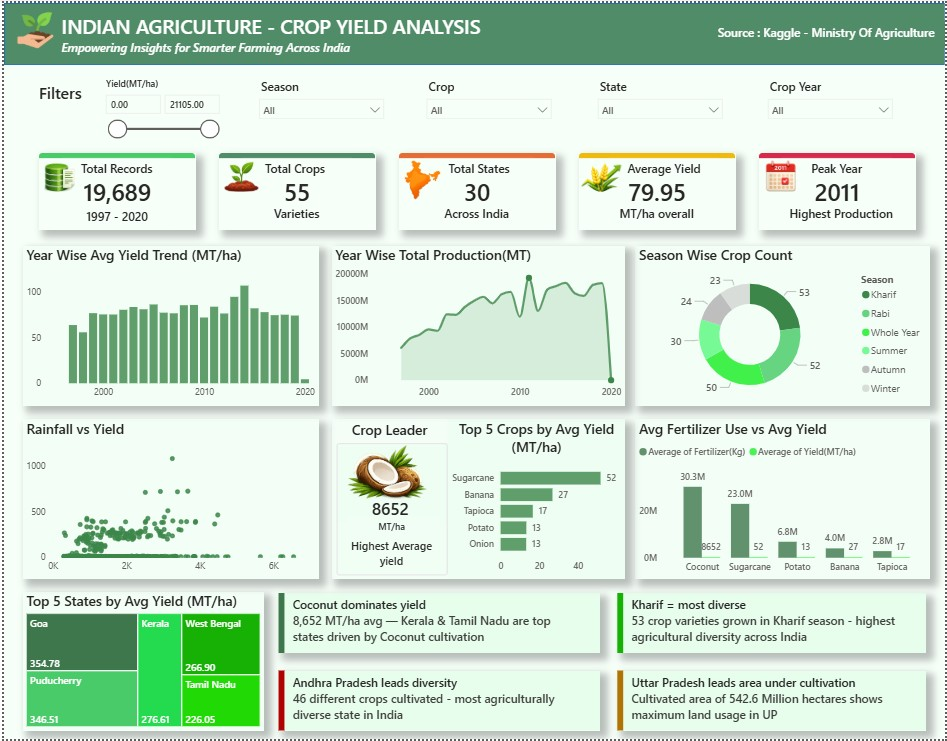

What the dashboard file says about the page in this screenshot:
{"tool":"powerbi","page":{"name":"Crop Yield Analysis","canvas":[1280,1000],"ordinal":0},"visuals":[{"type":"shape","box":[445,565.6,399.1,217.4],"z":0},{"type":"cardVisual","fields":{"Data":["Avg(crop_dataset.Yield(MT/ha))"]},"box":[451.8,597.8,151.2,180],"z":1000},{"type":"cardVisual","fields":{"Data":["CountNonNull(crop_dataset.Crop)"]},"box":[48.4,203.5,212.5,103.9],"z":2000},{"type":"cardVisual","fields":{"Data":["Count(crop_dataset.Crop)"]},"box":[292.7,203.5,212.5,103.9],"z":3000},{"type":"cardVisual","fields":{"Data":["Count(crop_dataset.State)"]},"box":[537,203.5,212.5,103.9],"z":4000},{"type":"cardVisual","fields":{"Data":["Avg(crop_dataset.Yield(MT/ha))"]},"box":[781.3,203.5,212.5,103.9],"z":5000},{"type":"cardVisual","fields":{"Data":["crop_dataset.Peak Year"]},"box":[1025.6,203.5,212.5,103.9],"z":6000},{"type":"shape","box":[0,0,1279.4,84.1],"z":7000},{"type":"textbox","box":[79,208.1,149.8,39.7],"z":8000},{"type":"textbox","box":[323.3,208.1,149.8,39.7],"z":9000},{"type":"textbox","box":[570.7,208.9,149.5,39.1],"z":10000},{"type":"textbox","box":[822,208.9,149.5,39.1],"z":11000},{"type":"textbox","box":[1056.1,208.1,149.8,39.7],"z":12000},{"type":"textbox","box":[73.4,7.6,719.9,67.3],"z":13000},{"type":"textbox","box":[78.1,273.4,151.2,35.7],"z":14000},{"type":"textbox","box":[323.3,270.7,149.8,35.2],"z":15000},{"type":"textbox","box":[567.6,270.7,149.8,35.2],"z":16000},{"type":"textbox","box":[811.8,270.7,149.8,35.2],"z":17000},{"type":"textbox","box":[1056.8,270,162,35.2],"z":18000},{"type":"textbox","box":[964.5,22.9,314.9,36.7],"z":19000},{"type":"image","box":[12.2,12.2,61.1,50.4],"z":20000},{"type":"textbox","box":[42.5,101.9,95.1,40.8],"z":21000},{"type":"slicer","fields":{"Values":["crop_dataset.Yield(MT/ha)"]},"box":[125.7,96.8,174.9,91.7],"z":22000},{"type":"clusteredColumnChart","title":"Year Wise Avg Yield Trend (MT/ha)","fields":{"Category":["crop_dataset.Crop_Year"],"Y":["Avg(crop_dataset.Yield(MT/ha))"]},"box":[25.5,329.5,402.5,217.4],"z":23000},{"type":"lineChart","title":"Year Wise Total Production(MT)","fields":{"Category":["crop_dataset.Crop_Year"],"Y":["Sum(crop_dataset.Production(MT))"]},"box":[445,329.5,399.1,217.4],"z":24000},{"type":"donutChart","title":"Season Wise Crop Count","fields":{"Category":["crop_dataset.Season"],"Y":["Count(crop_dataset.Crop)"]},"box":[857.7,329.5,400.8,217.4],"z":25000},{"type":"scatterChart","title":"Rainfall vs Yield","fields":{"Y":["Avg(crop_dataset.Yield(MT/ha))"],"X":["crop_dataset.Annual_Rainfall(mm)"]},"box":[25.5,565.6,402.5,217.4],"z":26000},{"type":"clusteredBarChart","title":"Top 5 Crops by Avg Yield (MT/ha)","fields":{"Category":["crop_dataset.Crop"],"Y":["Avg(crop_dataset.Yield(MT/ha))"]},"box":[602.9,565.6,241.2,217.4],"z":27000},{"type":"clusteredColumnChart","title":"Avg Fertilizer Use vs Avg Yield ","fields":{"Category":["crop_dataset.Crop"],"Y":["Avg(crop_dataset.Fertilizer(Kg))","Avg(crop_dataset.Yield(MT/ha))"]},"box":[857.7,565.6,400.8,217.4],"z":28000},{"type":"treemap","title":"Top 5 States by Avg Yield (MT/ha)","fields":{"Group":["crop_dataset.State"],"Values":["Avg(crop_dataset.Yield(MT/ha))"]},"box":[25.5,799.9,327.8,188.5],"z":29000},{"type":"slicer","fields":{"Values":["crop_dataset.Season"]},"box":[336.3,96.8,190.2,78.1],"z":30000},{"type":"slicer","fields":{"Values":["crop_dataset.Crop"]},"box":[563.9,96.8,190.2,78.1],"z":31000},{"type":"slicer","fields":{"Values":["crop_dataset.State"]},"box":[796.5,96.8,190.2,78.1],"z":32000},{"type":"slicer","fields":{"Values":["crop_dataset.Crop_Year"]},"box":[1027.5,96.8,190.2,78.1],"z":33000},{"type":"shape","box":[373,801.6,436.5,81.5],"z":34000},{"type":"shape","box":[374.2,906.9,436.5,81.5],"z":35000},{"type":"shape","box":[833.9,801.6,419.5,81.5],"z":36000},{"type":"shape","box":[833.9,906.9,419.5,81.5],"z":37000},{"type":"shape","box":[366.2,801.6,20.4,81.5],"z":38000},{"type":"shape","box":[827.1,801.6,20.4,81.5],"z":39000},{"type":"shape","box":[823.7,906.9,27.2,81.5],"z":40000},{"type":"shape","box":[364,906.9,27.2,81.5],"z":41000},{"type":"textbox","box":[386.6,801.6,405.9,81.5],"z":42000},{"type":"textbox","box":[387.7,906.9,405.9,81.5],"z":43000},{"type":"textbox","box":[847.5,801.6,390.6,81.5],"z":44000},{"type":"textbox","box":[847.5,906.9,390.6,81.5],"z":45000},{"type":"image","box":[292.1,215.7,61.1,40.8],"z":46000},{"type":"image","box":[784.7,214,54.3,47.6],"z":47000},{"type":"image","box":[1034.3,214,42.5,42.5],"z":48000},{"type":"image","box":[541.8,214,54.3,52.6],"z":49000},{"type":"image","box":[51,217.4,49.3,39.1],"z":50000},{"type":"image","box":[467.1,594.4,107,86.6],"z":51000},{"type":"textbox","box":[446.7,562.2,149.5,40.8],"z":52000},{"type":"textbox","box":[451.8,704.8,149.5,73],"z":53000},{"type":"textbox","box":[465.4,696.3,125.7,30.6],"z":53001}]}

Visuals, with their boxes in screenshot pixels (x1, y1, x2, y2), scaled from the page's 1280x1000 canvas onto the 947x741 screenshot:
shape: <bbox>329, 419, 625, 580</bbox>
cardVisual - Avg(crop_dataset.Yield(MT/ha)): <bbox>334, 443, 446, 576</bbox>
cardVisual - CountNonNull(crop_dataset.Crop): <bbox>36, 151, 193, 228</bbox>
cardVisual - Count(crop_dataset.Crop): <bbox>217, 151, 374, 228</bbox>
cardVisual - Count(crop_dataset.State): <bbox>397, 151, 555, 228</bbox>
cardVisual - Avg(crop_dataset.Yield(MT/ha)): <bbox>578, 151, 735, 228</bbox>
cardVisual - crop_dataset.Peak Year: <bbox>759, 151, 916, 228</bbox>
shape: <bbox>0, 0, 946, 62</bbox>
textbox: <bbox>58, 154, 169, 184</bbox>
textbox: <bbox>239, 154, 350, 184</bbox>
textbox: <bbox>422, 155, 533, 184</bbox>
textbox: <bbox>608, 155, 719, 184</bbox>
textbox: <bbox>781, 154, 892, 184</bbox>
textbox: <bbox>54, 6, 587, 56</bbox>
textbox: <bbox>58, 203, 170, 229</bbox>
textbox: <bbox>239, 201, 350, 227</bbox>
textbox: <bbox>420, 201, 531, 227</bbox>
textbox: <bbox>601, 201, 711, 227</bbox>
textbox: <bbox>782, 200, 902, 226</bbox>
textbox: <bbox>714, 17, 946, 44</bbox>
image: <bbox>9, 9, 54, 46</bbox>
textbox: <bbox>31, 76, 102, 106</bbox>
slicer - crop_dataset.Yield(MT/ha): <bbox>93, 72, 222, 140</bbox>
"Year Wise Avg Yield Trend (MT/ha)" clusteredColumnChart: <bbox>19, 244, 317, 405</bbox>
"Year Wise Total Production(MT)" lineChart: <bbox>329, 244, 625, 405</bbox>
"Season Wise Crop Count" donutChart: <bbox>635, 244, 931, 405</bbox>
"Rainfall vs Yield" scatterChart: <bbox>19, 419, 317, 580</bbox>
"Top 5 Crops by Avg Yield (MT/ha)" clusteredBarChart: <bbox>446, 419, 625, 580</bbox>
"Avg Fertilizer Use vs Avg Yield " clusteredColumnChart: <bbox>635, 419, 931, 580</bbox>
"Top 5 States by Avg Yield (MT/ha)" treemap: <bbox>19, 593, 261, 732</bbox>
slicer - crop_dataset.Season: <bbox>249, 72, 390, 130</bbox>
slicer - crop_dataset.Crop: <bbox>417, 72, 558, 130</bbox>
slicer - crop_dataset.State: <bbox>589, 72, 730, 130</bbox>
slicer - crop_dataset.Crop_Year: <bbox>760, 72, 901, 130</bbox>
shape: <bbox>276, 594, 599, 654</bbox>
shape: <bbox>277, 672, 600, 732</bbox>
shape: <bbox>617, 594, 927, 654</bbox>
shape: <bbox>617, 672, 927, 732</bbox>
shape: <bbox>271, 594, 286, 654</bbox>
shape: <bbox>612, 594, 627, 654</bbox>
shape: <bbox>609, 672, 630, 732</bbox>
shape: <bbox>269, 672, 289, 732</bbox>
textbox: <bbox>286, 594, 586, 654</bbox>
textbox: <bbox>287, 672, 587, 732</bbox>
textbox: <bbox>627, 594, 916, 654</bbox>
textbox: <bbox>627, 672, 916, 732</bbox>
image: <bbox>216, 160, 261, 190</bbox>
image: <bbox>581, 159, 621, 194</bbox>
image: <bbox>765, 159, 797, 190</bbox>
image: <bbox>401, 159, 441, 198</bbox>
image: <bbox>38, 161, 74, 190</bbox>
image: <bbox>346, 440, 425, 505</bbox>
textbox: <bbox>330, 417, 441, 447</bbox>
textbox: <bbox>334, 522, 445, 576</bbox>
textbox: <bbox>344, 516, 437, 539</bbox>
